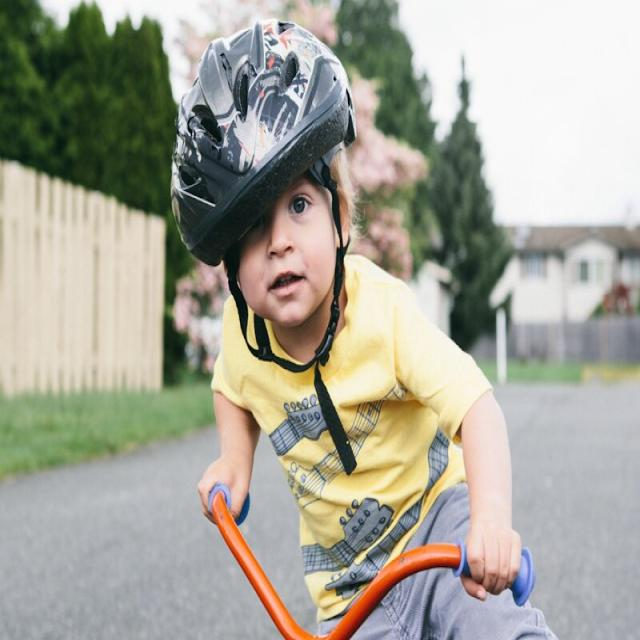illegal_helmet: (165, 11, 362, 381)
